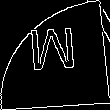M_S: (29, 28, 81, 82)
